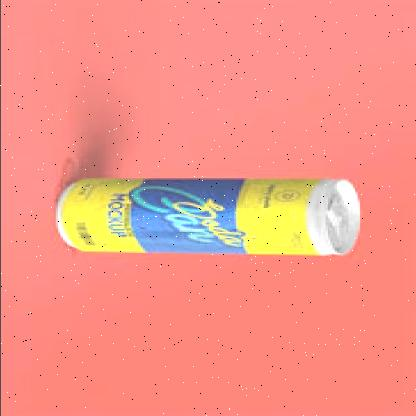Can: (51, 173, 360, 257)
